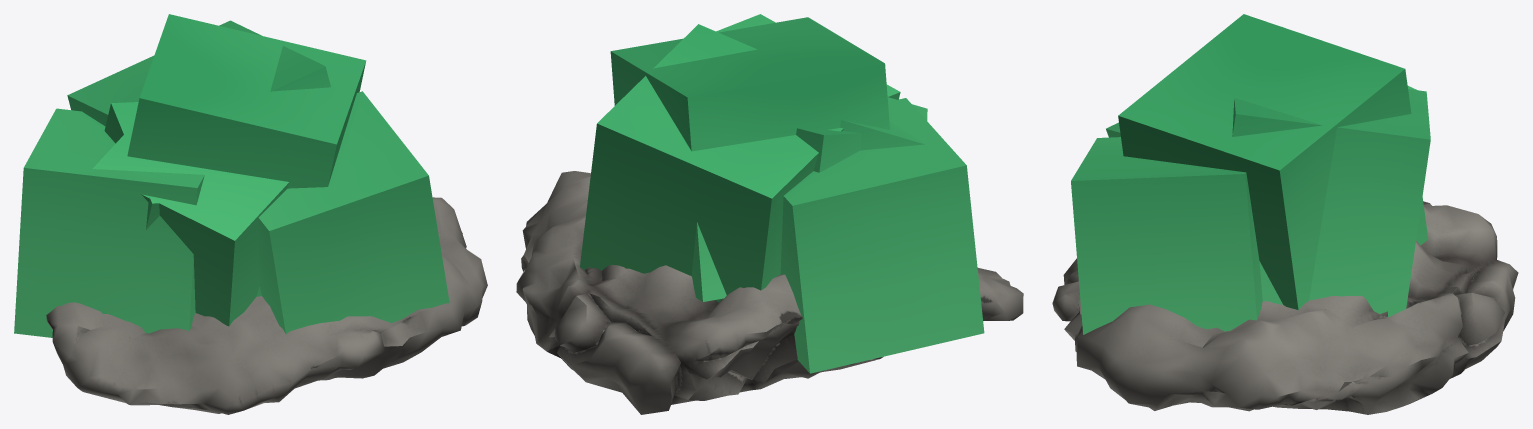
The model's file is fluorita_verde.fbx.
3 views of the same model, side by side, from view 1: azimuth 30°, elevation 25°; view 2: azimuth 150°, elevation 25°; view 3: azimuth 270°, elevation 25° (orthographic). The views are drawn at different scales.
Visible parts, largest first — view 1: fluorita_verde_cristal, fluorita_verde; view 2: fluorita_verde_cristal, fluorita_verde; view 3: fluorita_verde_cristal, fluorita_verde.
Boxes of the visible parts, box(x1,y1,x2,y2) form: fluorita_verde_cristal: box(14, 14, 449, 337); fluorita_verde: box(46, 197, 487, 414); fluorita_verde_cristal: box(580, 14, 984, 373); fluorita_verde: box(516, 171, 1023, 414); fluorita_verde_cristal: box(1071, 14, 1430, 334); fluorita_verde: box(1052, 201, 1518, 414).
Bounding box in the file's own units: 2.28 × 1.37 × 2.08.
Materials: 2 (2 with a texture image).
